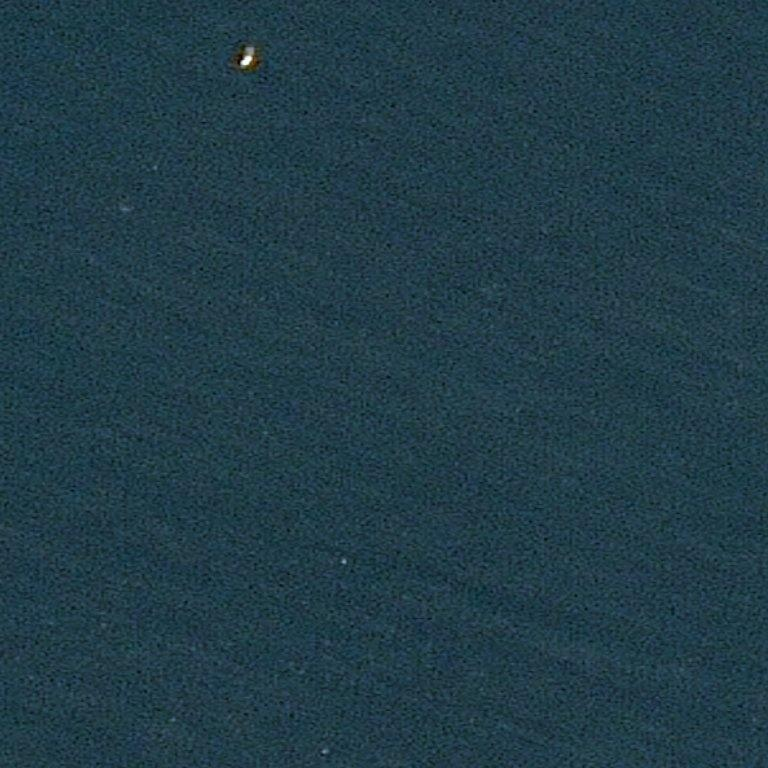ship: (236, 39, 258, 69)
